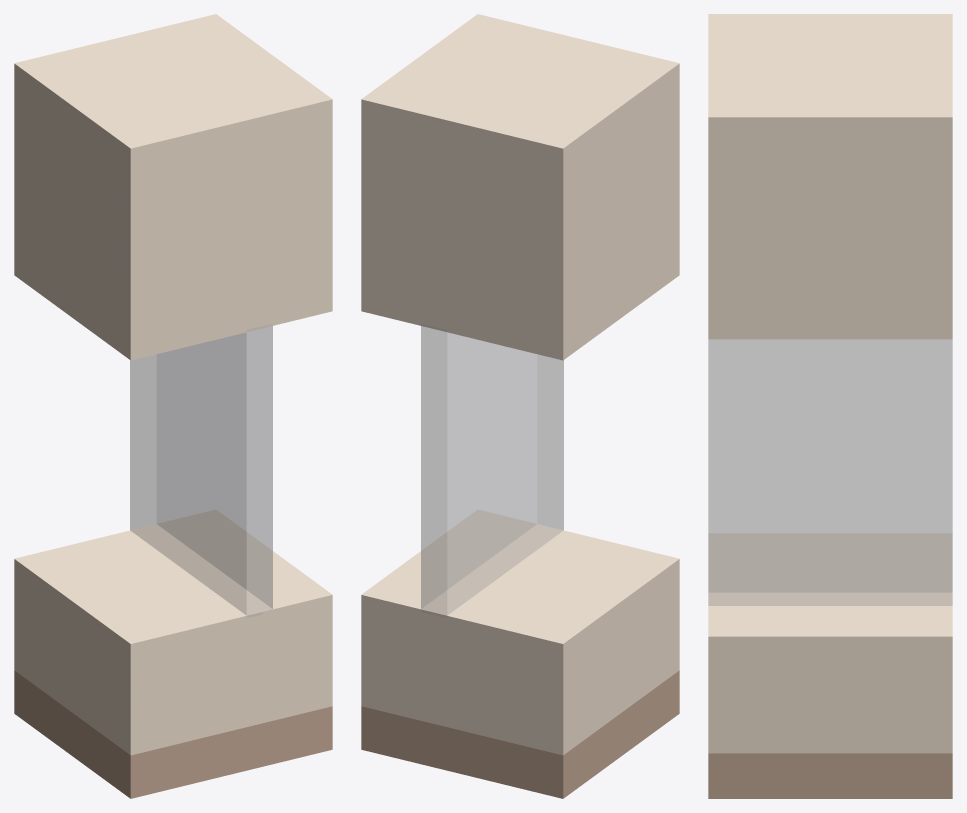
File: mesh_window.obj
3 renders of one model, left to right at view 1: azimuth 30°, elevation 25°; view 2: azimuth 150°, elevation 25°; view 3: azimuth 270°, elevation 25°, orthographic. The views are drawn at different scales.
Parts seen in each view (by area): view 1: Cube.001, Cube.002; view 2: Cube.001, Cube.002; view 3: Cube.001, Cube.002.
Part boxes in pixels (box(x1,y1,x2,y2)): Cube.001: box(14, 14, 332, 798); Cube.002: box(130, 324, 272, 617); Cube.001: box(361, 14, 679, 798); Cube.002: box(421, 324, 563, 617); Cube.001: box(708, 14, 952, 798); Cube.002: box(708, 339, 952, 605).
Size of the model in its own units: 4 by 12.3 by 4.
